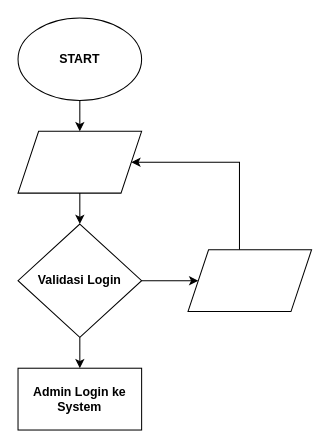
Image size: 330x448. Some labels were removed from this diagram. Each missing label, with the centre of its shape:
"Admin Login" goes at (x=79, y=161).
"Tampilan Login Salah" goes at (x=249, y=280).
